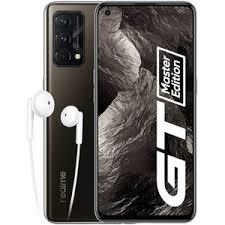Smartphone: (96, 7, 195, 214), (44, 5, 97, 224)
